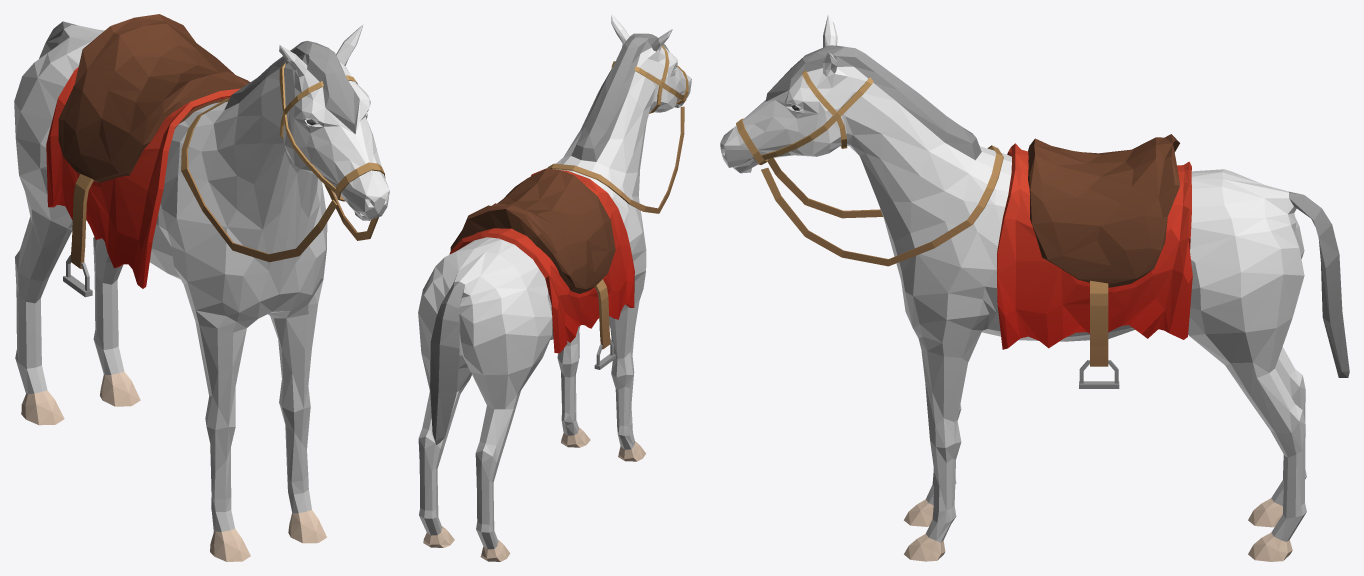
Rendered from horse white.fbx.
3 views of the same model, side by side, from view 1: azimuth 30°, elevation 25°; view 2: azimuth 150°, elevation 25°; view 3: azimuth 270°, elevation 25° (orthographic). The views are drawn at different scales.
Visible parts, largest first — view 1: horse white; view 2: horse white; view 3: horse white.
Boxes of the visible parts, left/top/right/bottom form: horse white: left=14, top=14, right=389, bottom=561; horse white: left=418, top=14, right=691, bottom=561; horse white: left=720, top=14, right=1349, bottom=561.
Size of the model in its own units: 77.65 by 203 by 229.
